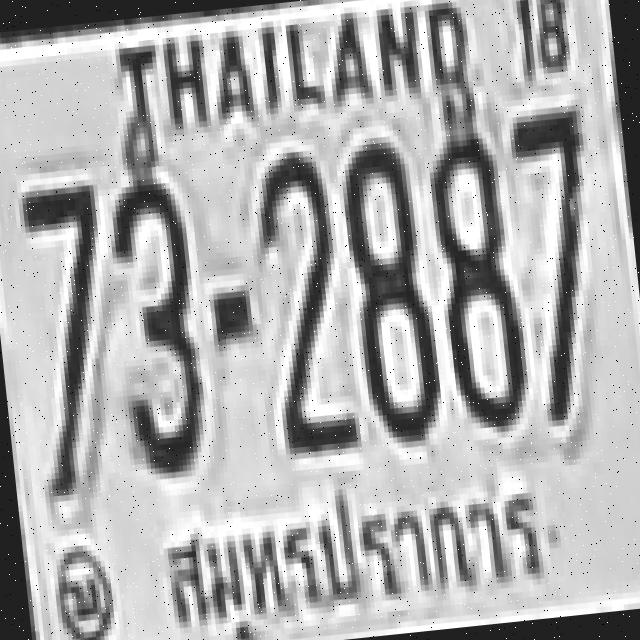2: (250, 146, 348, 440), (248, 146, 348, 417)
3: (100, 170, 206, 470)
7: (16, 179, 120, 485), (507, 105, 607, 416), (507, 105, 600, 352), (16, 179, 110, 393), (508, 105, 596, 306)
8: (421, 124, 528, 430), (334, 134, 441, 440)
SamutPrakan: (147, 458, 566, 640)
